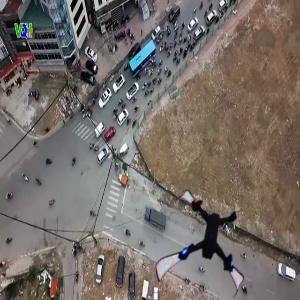drone: (160, 199, 260, 299)
